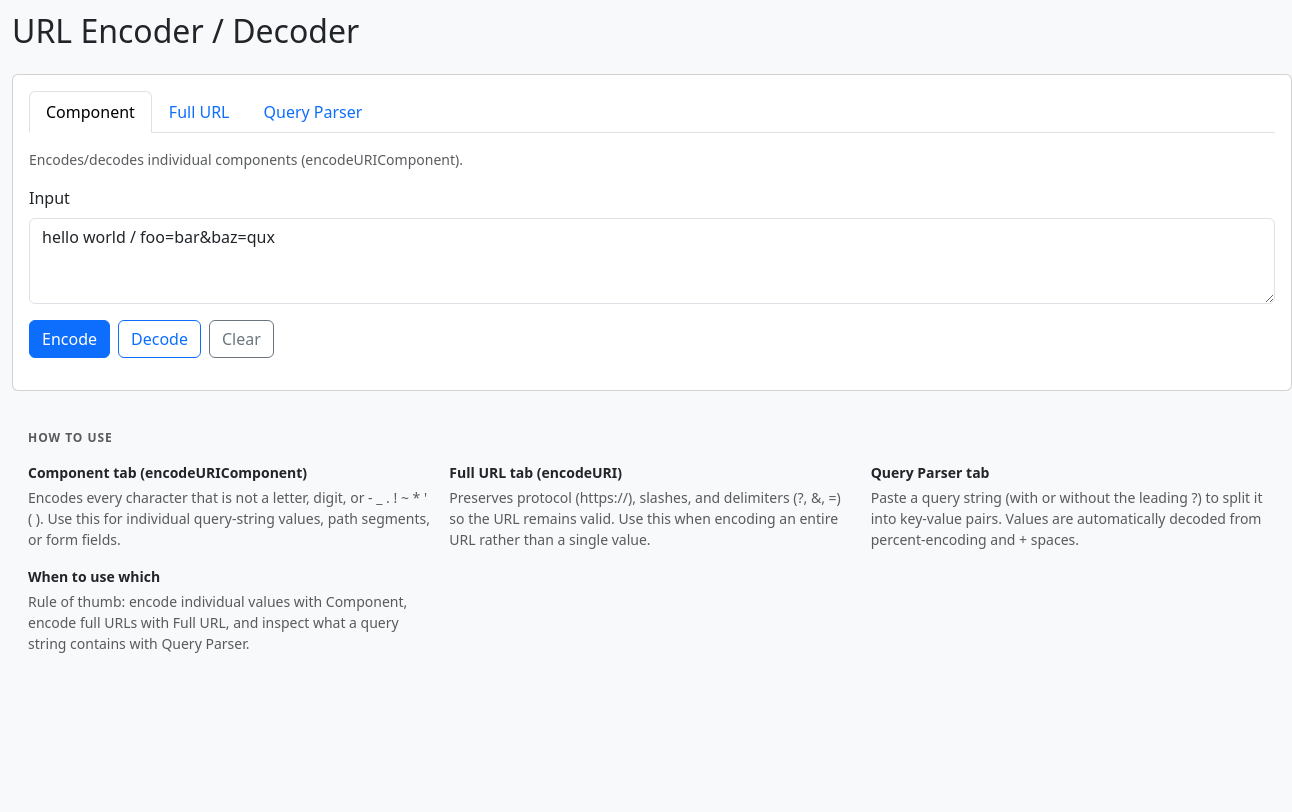
Test: UrlTool › Component tab › encodes text on Encode click
The width and height of the screenshot is (1292, 812).
Replace the text in the text box named "URL component input" with "hello world" at {"x": 652, "y": 261}, box [29,218,1275,304]
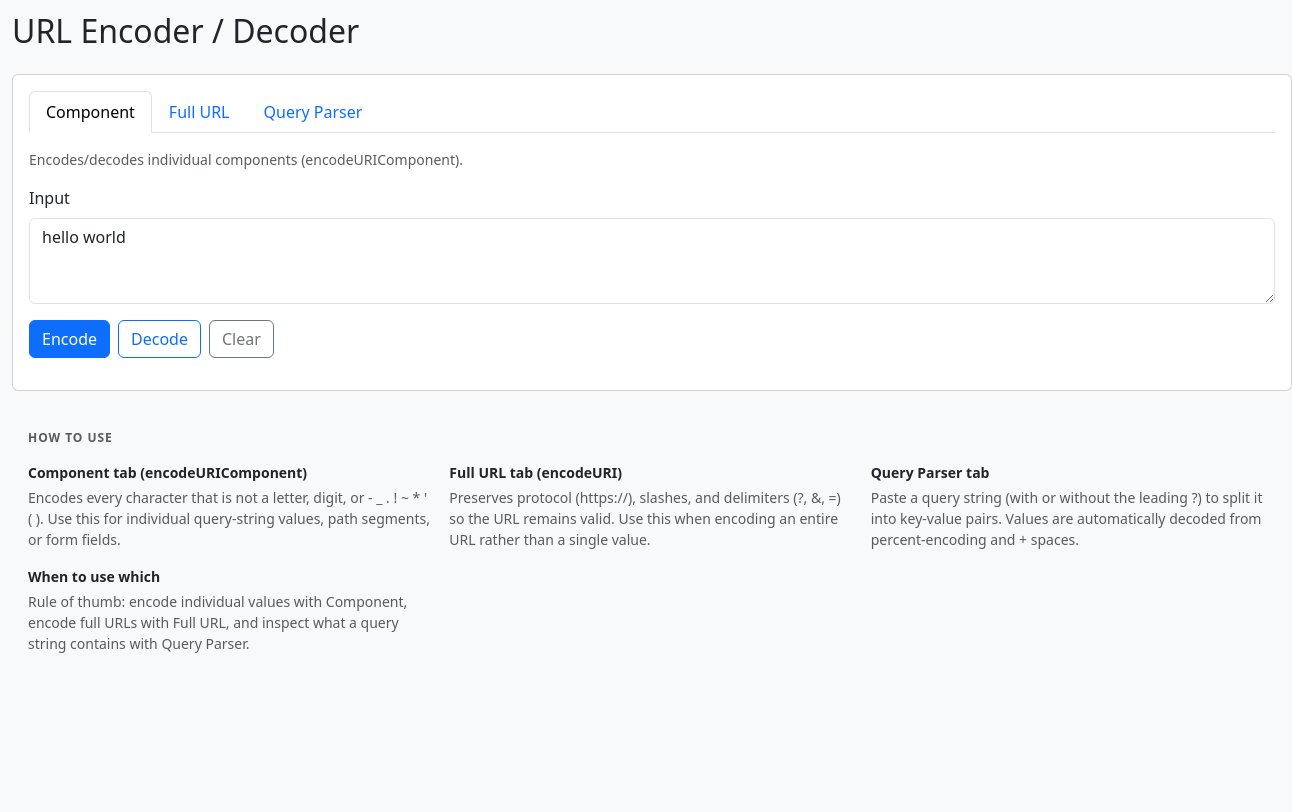
Click the button "Encode" at {"x": 70, "y": 339}, box [29,320,110,358]
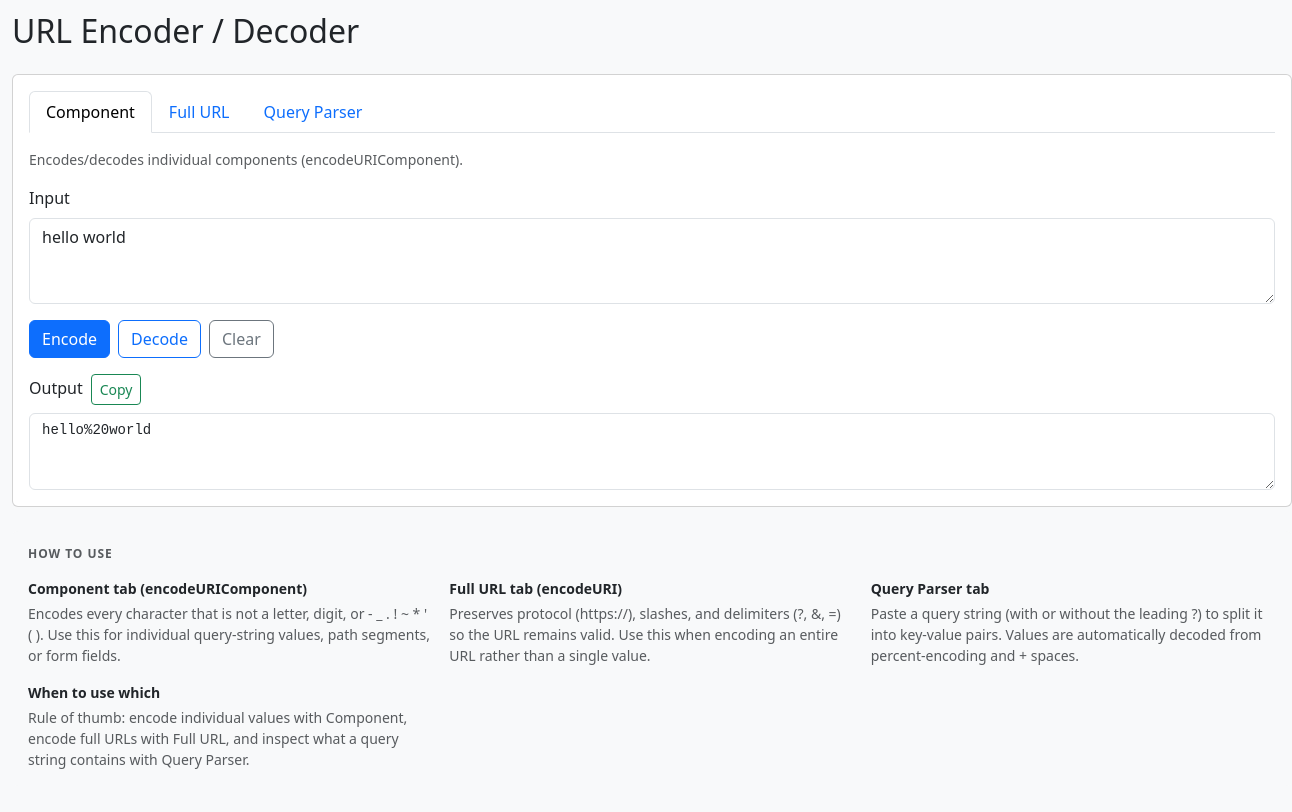
Check: the text box named "URL component output" holds "hello%20world", box [29,413,1275,490]
